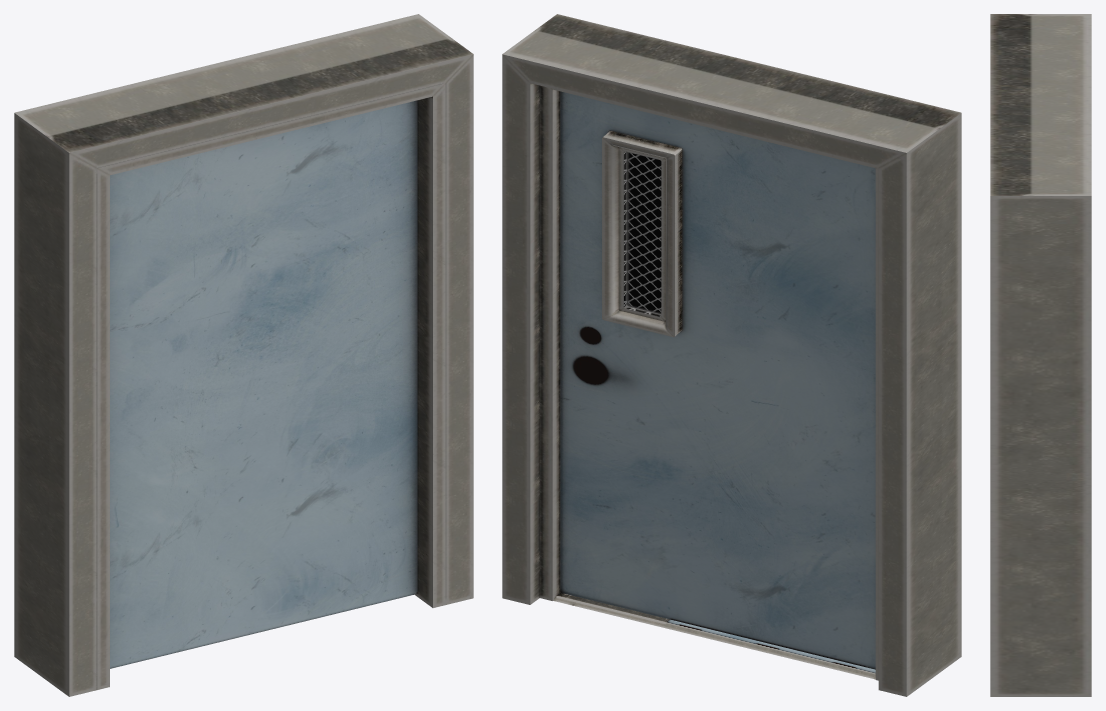
The model's file is Door.fbx.
The picture shows the model from 3 angles, left to right: view 1: azimuth 30°, elevation 25°; view 2: azimuth 150°, elevation 25°; view 3: azimuth 270°, elevation 25°; orthographic projection. The views are drawn at different scales.
Visible parts, largest first — view 1: Door; view 2: Door; view 3: Door.
Boxes of the visible parts, x1,y1,x2,y2 form: Door: [14, 14, 473, 696]; Door: [502, 14, 961, 696]; Door: [990, 14, 1091, 696].
Bounding box in the file's own units: 227 × 291 × 53.44.
1 material, 1 textured.
